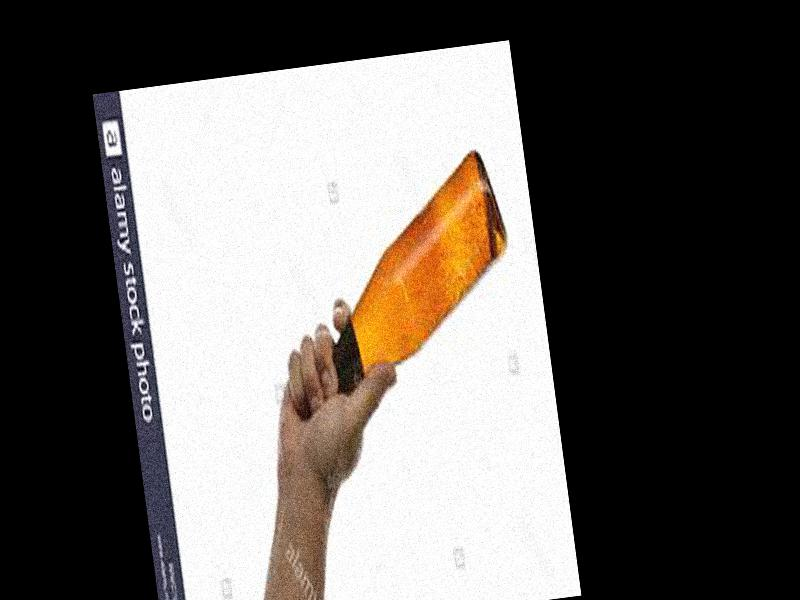Beer: (269, 147, 528, 415)
